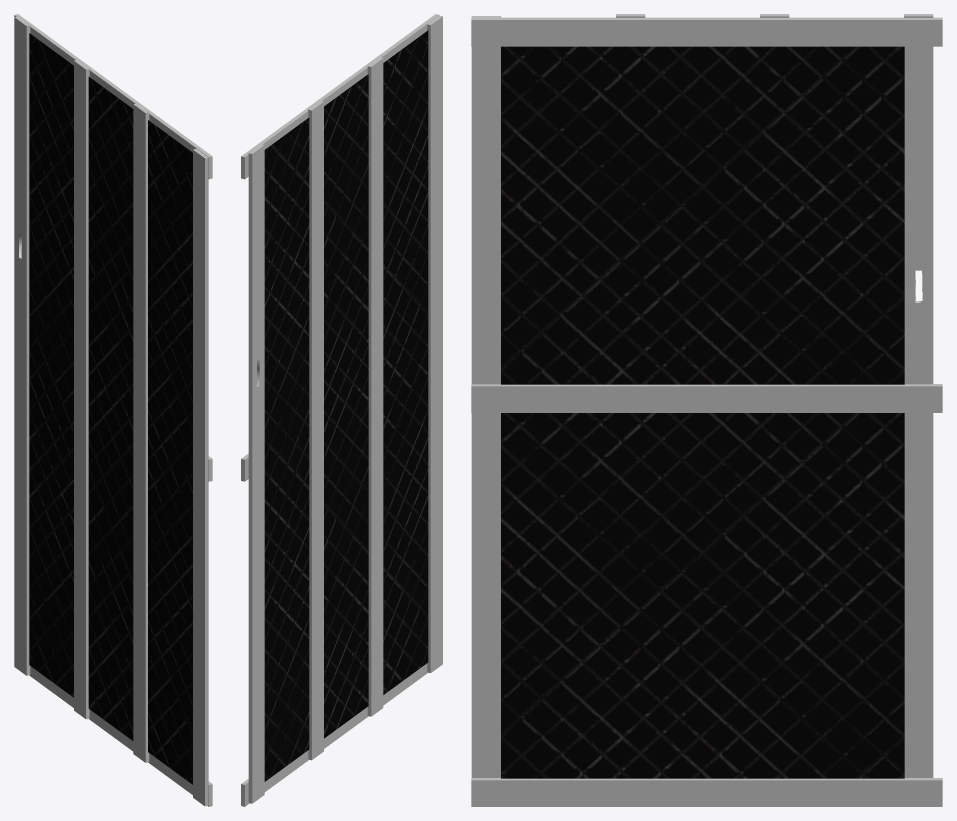
File: Door_H.fbx
The picture shows the model from 3 angles, left to right: view 1: azimuth 30°, elevation 25°; view 2: azimuth 150°, elevation 25°; view 3: azimuth 270°, elevation 25°; orthographic projection. The views are drawn at different scales.
Visible parts, largest first — view 1: Door; view 2: Door; view 3: Door.
Part boxes in pixels (x1,y1,x2,y2): Door: [14, 14, 212, 806]; Door: [241, 14, 442, 806]; Door: [471, 14, 942, 806].
Bounding box in the file's own units: 1.64 × 136 × 73.94.
